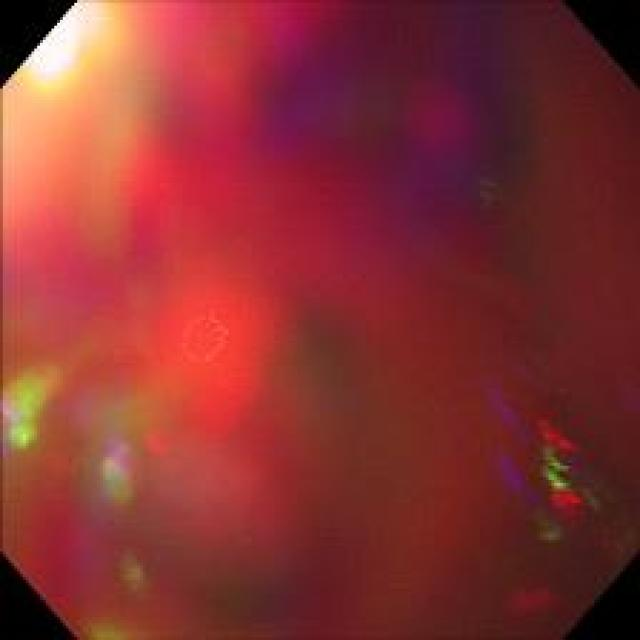color misalignment: (9, 6, 625, 621), (494, 375, 605, 539), (92, 435, 184, 529), (16, 4, 102, 91), (10, 359, 61, 436), (111, 541, 161, 605), (495, 568, 562, 614)
